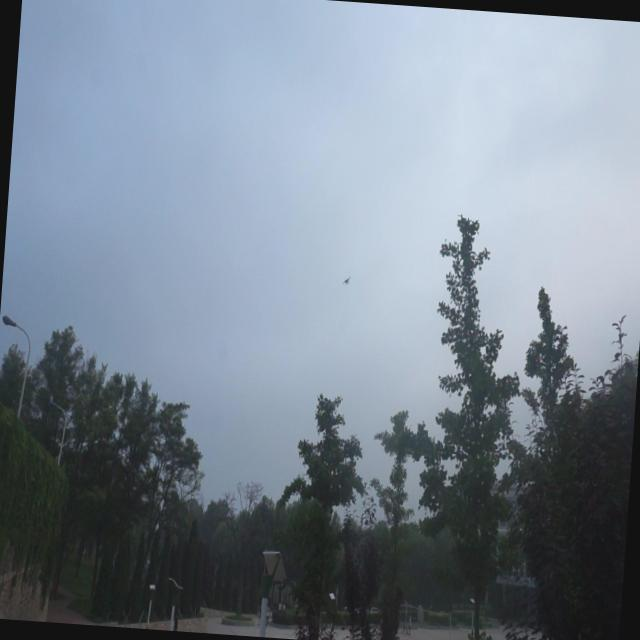drone: (341, 273, 351, 289)
